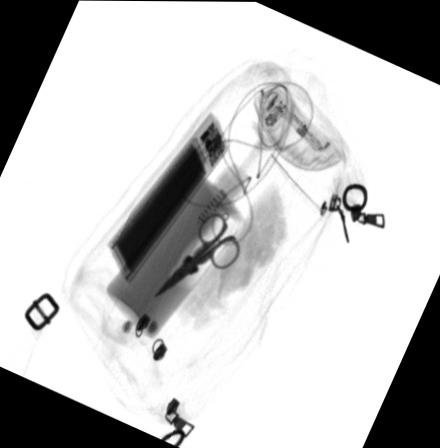Powerbank: (108, 109, 233, 286)
Scissors: (148, 209, 241, 302)
